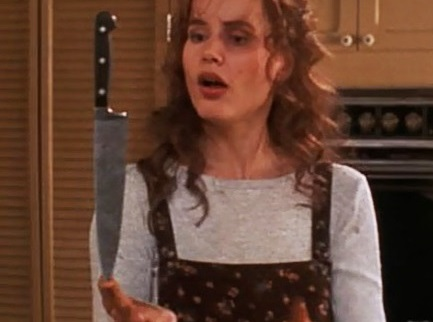knife: (81, 9, 130, 285)
